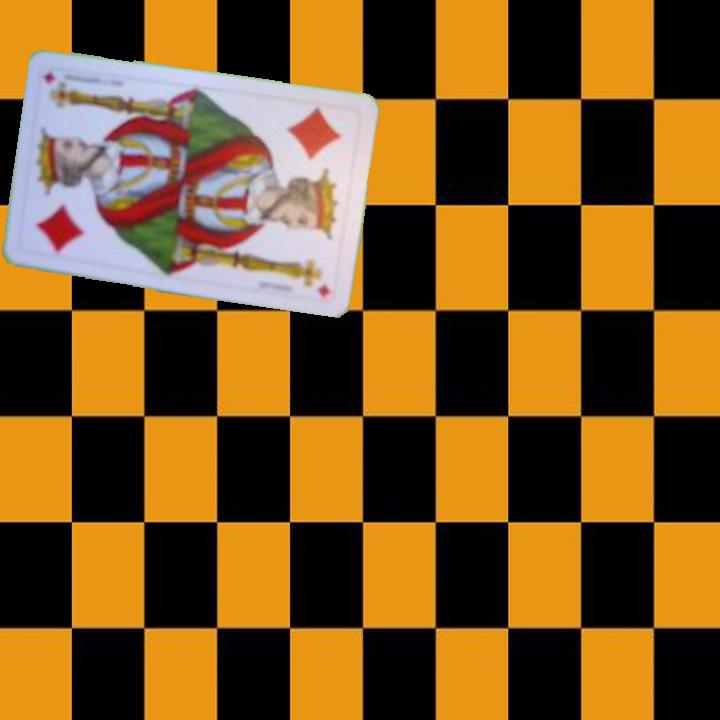d_k.png: (17, 157, 116, 267), (264, 97, 363, 207)
